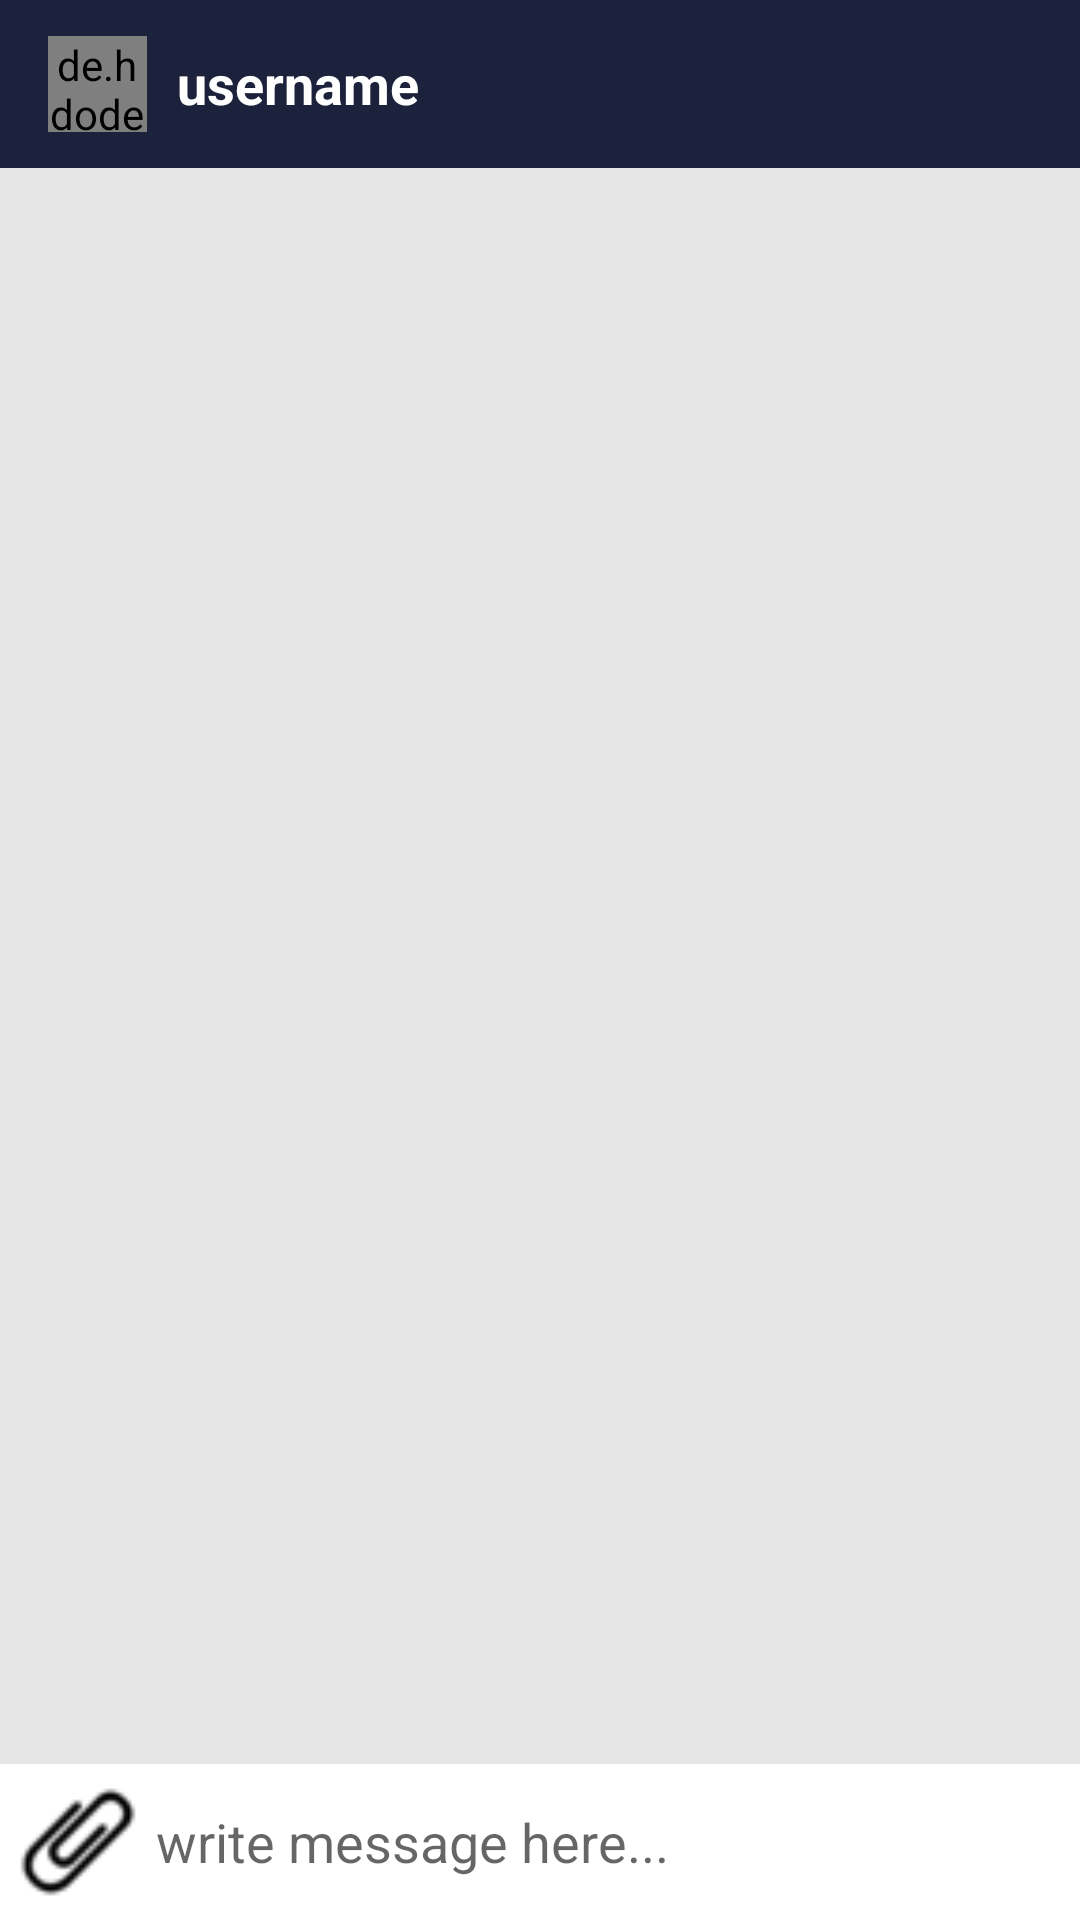

Screen size 1080x1920. Icon name, then its center in pixels as (x=x, y=y):
attach file: (x=78, y=1842)
